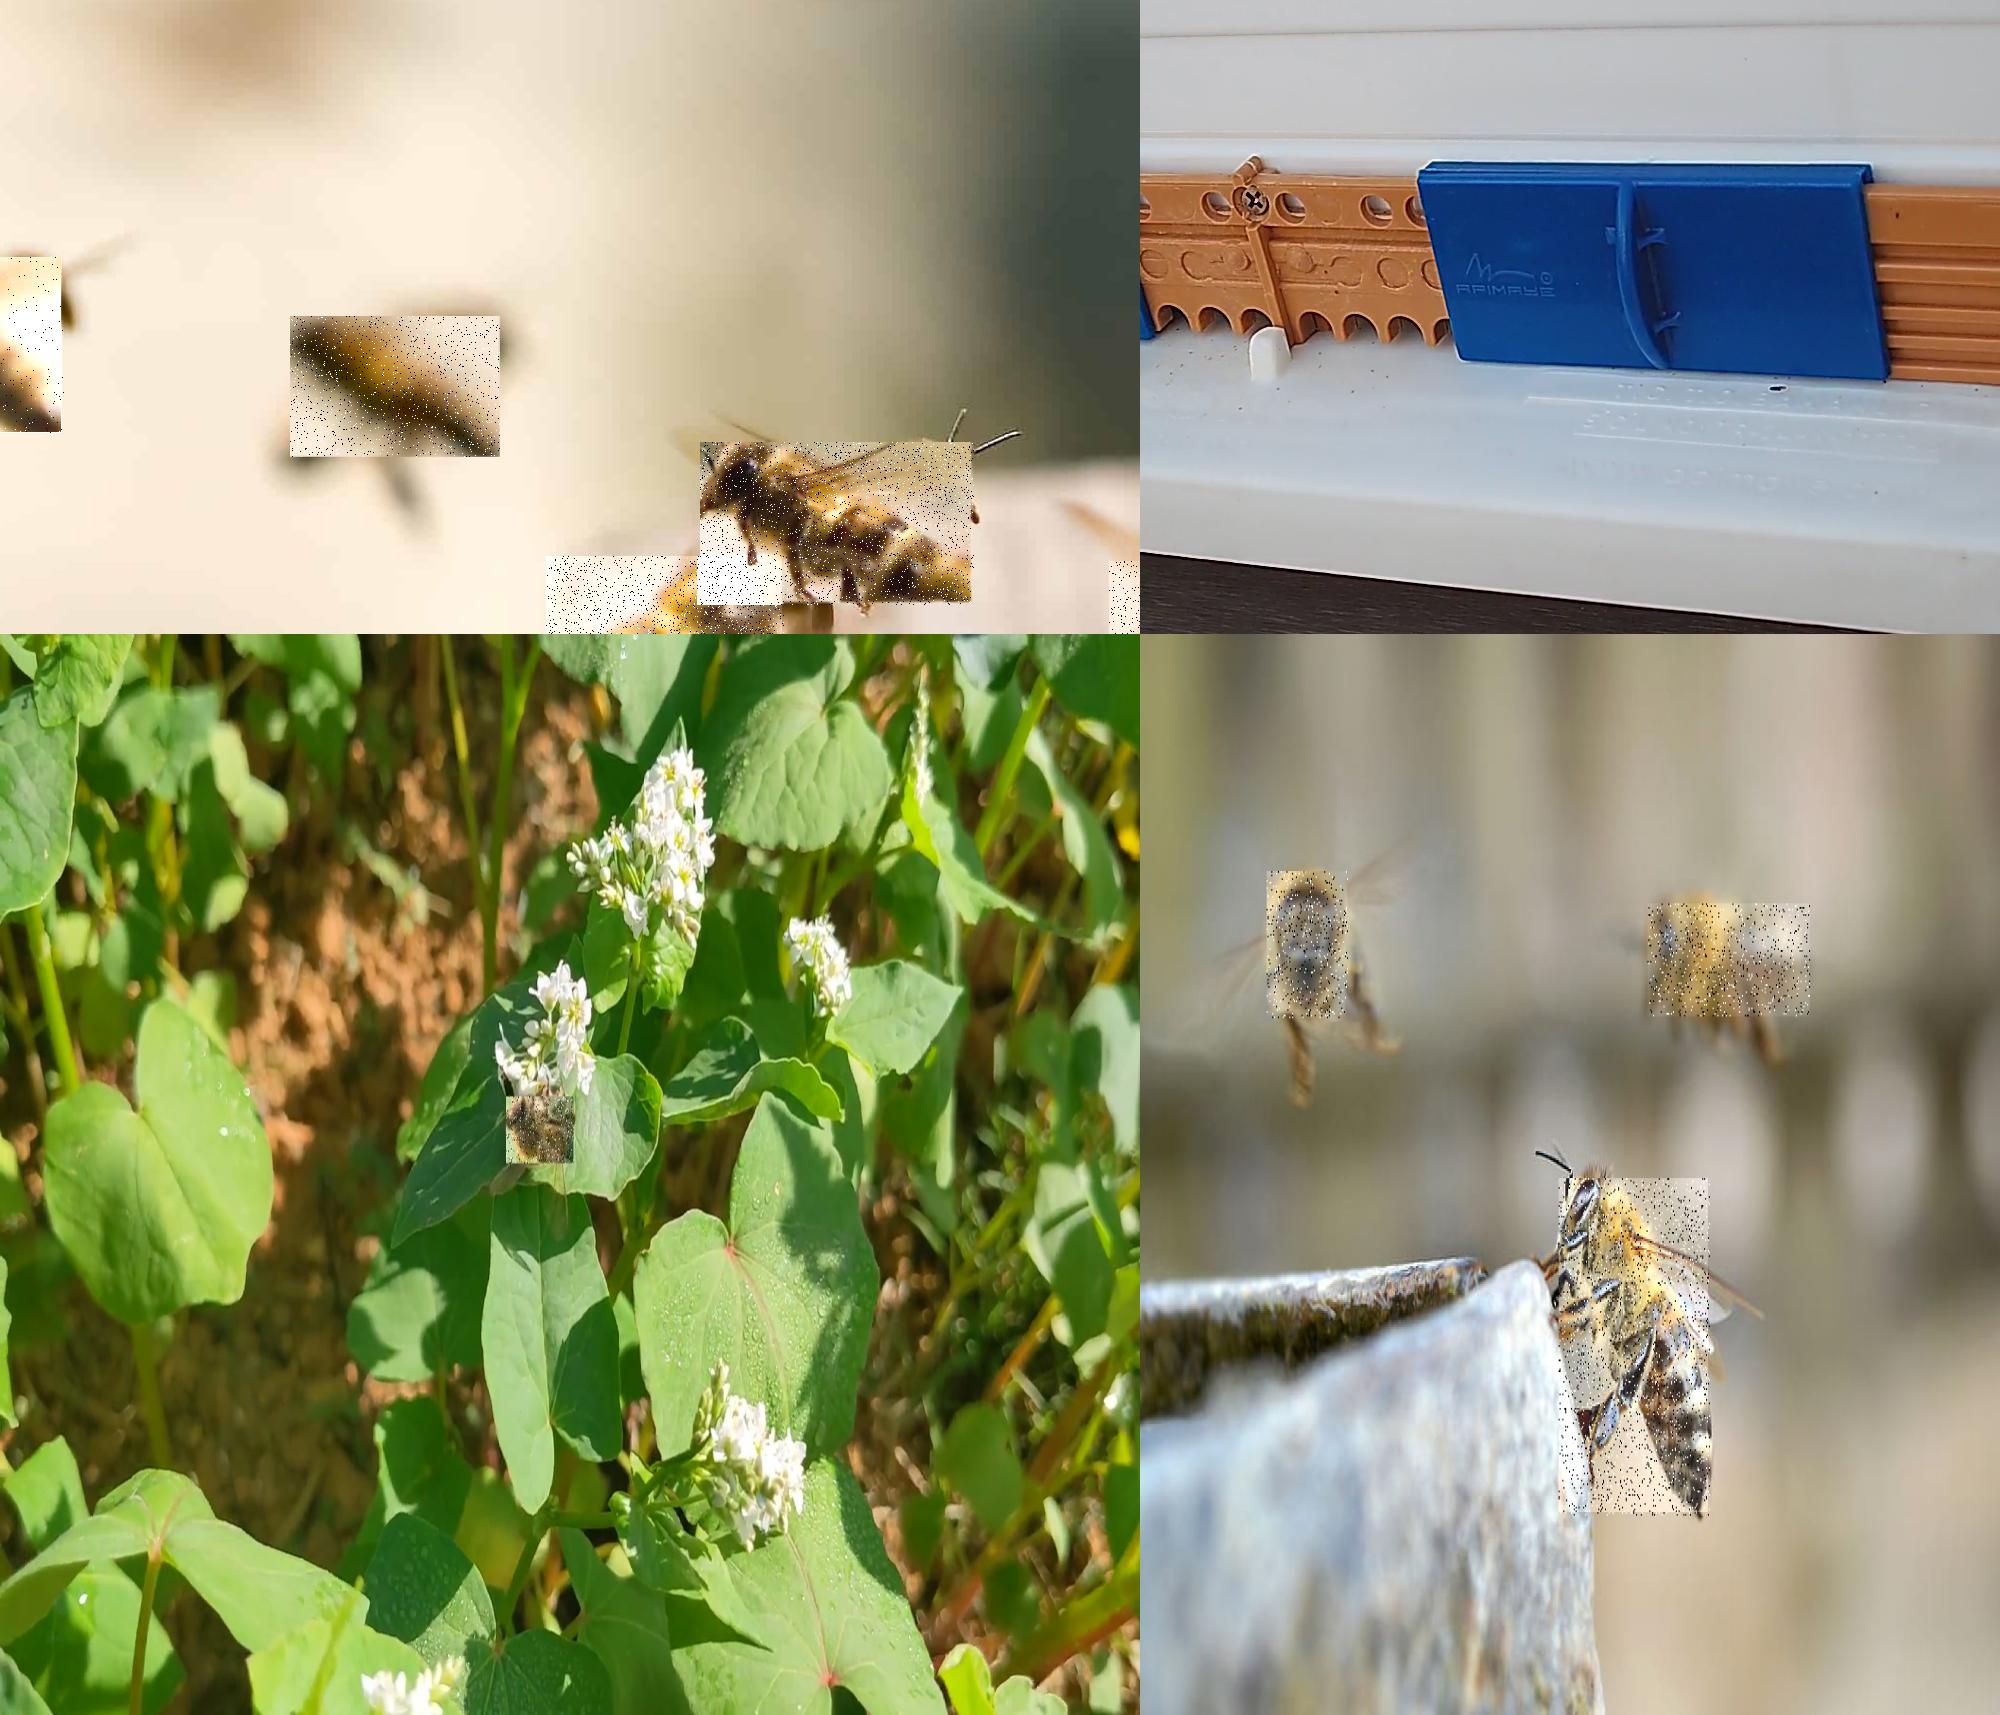bee: (1560, 1179, 1711, 1519), (701, 442, 976, 607), (291, 316, 502, 458), (1648, 903, 1811, 1019), (546, 556, 786, 633), (1267, 873, 1350, 1021), (0, 257, 66, 437), (505, 1096, 575, 1164)
